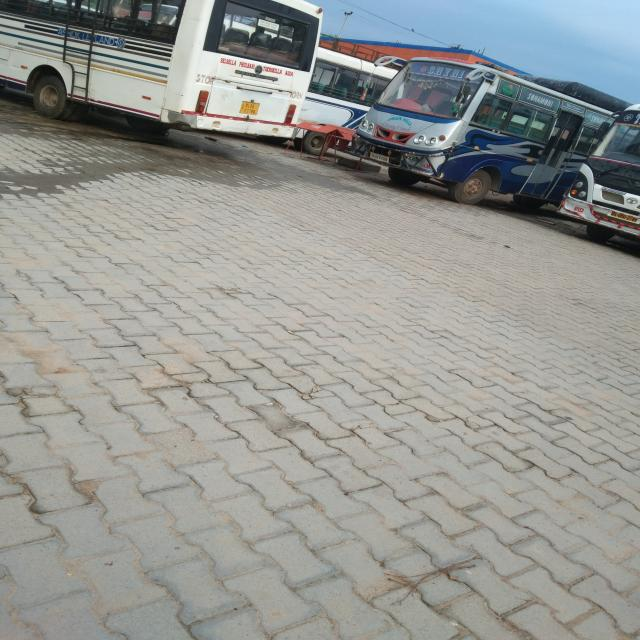Bus: (0, 0, 640, 240)
